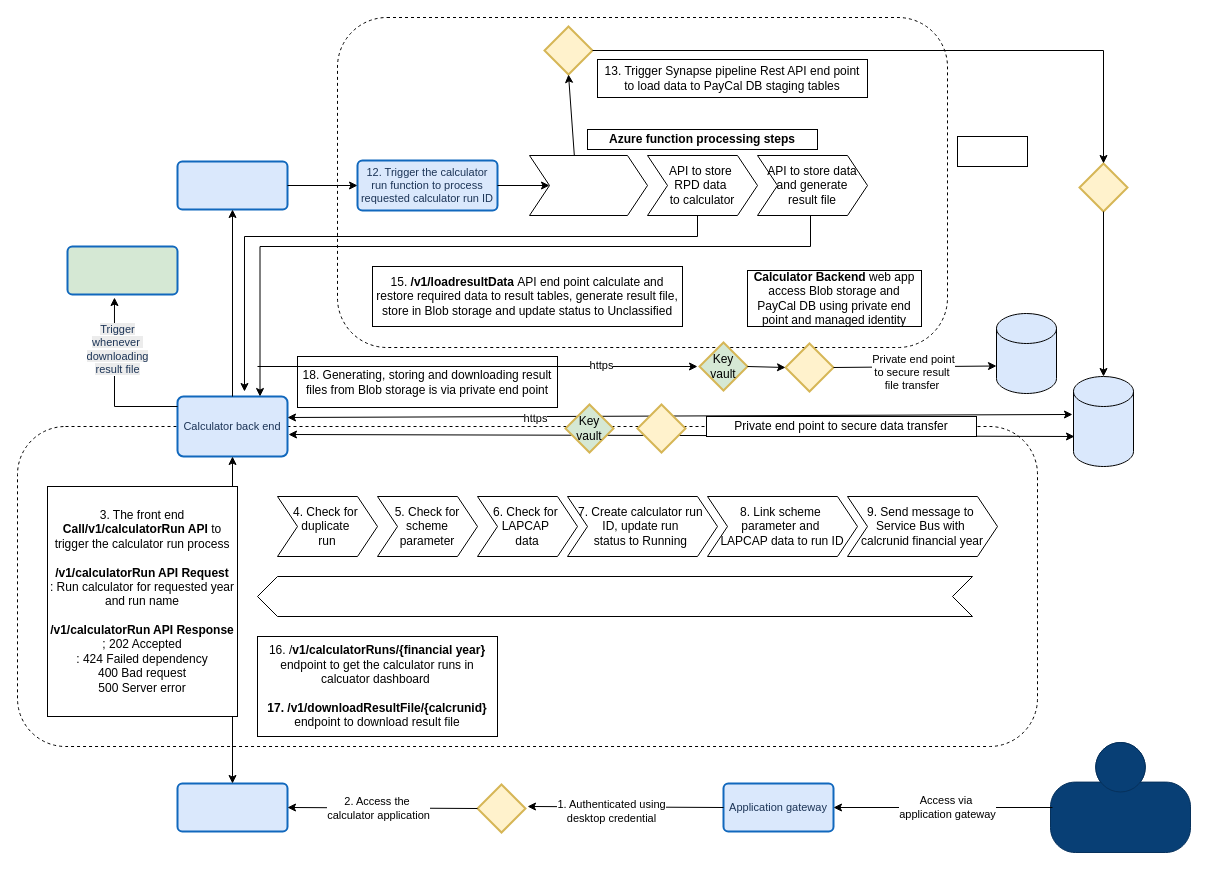
The diagram is 1208 pixels wide and 870 high, and some of its shapes have lost their labels. The centre of each missing label's shape, as x and y in pixels:
"(SSE) Blob storage" goes at point 1026,353.
"10. Return the calculator. Success - run ID. Failure - validation error" goes at point 614,596.
"11. Service Bus trigger function" goes at point 232,185.
"Calculator front end" goes at point 232,807.
"Private link" goes at point 992,151.
"Protective Monitoring Logging Solution" goes at point 122,270.
"Scheme administrator [Person] Scheme administrator." goes at point 1120,797.
"SQL" goes at point 1103,421.
"Trigger Synapse pipeline to load RPD data" goes at point 588,185.
